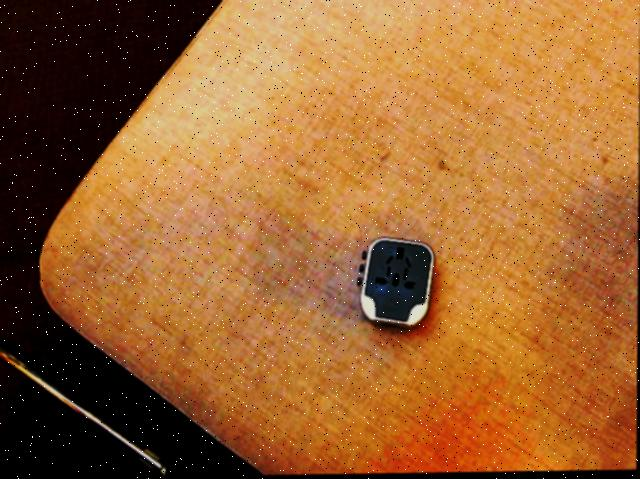adapter: (357, 237, 436, 330)
